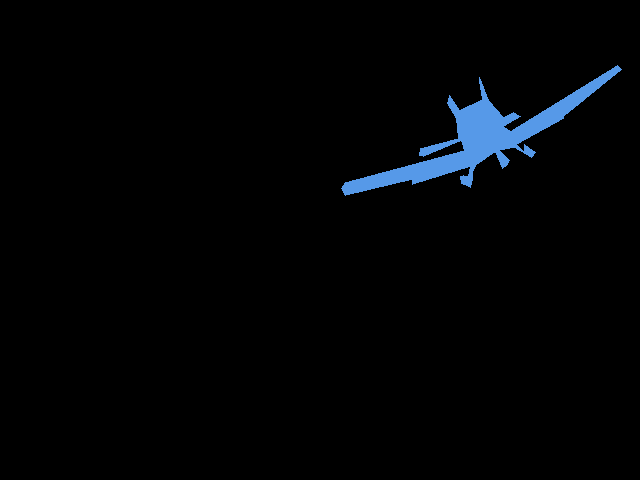Airplane: (341, 65, 621, 195)
